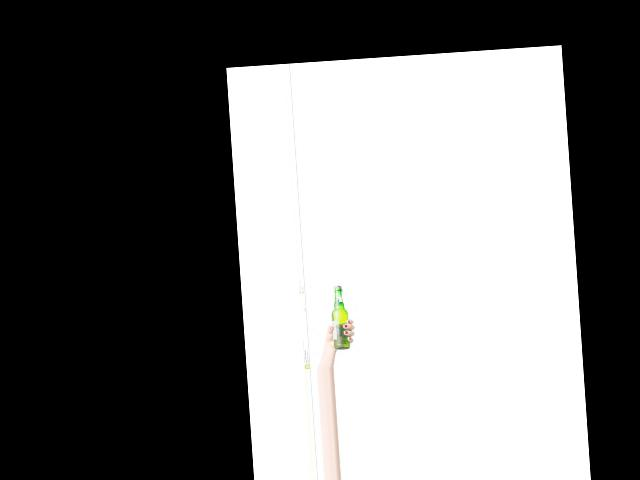beer: (328, 284, 349, 350)
